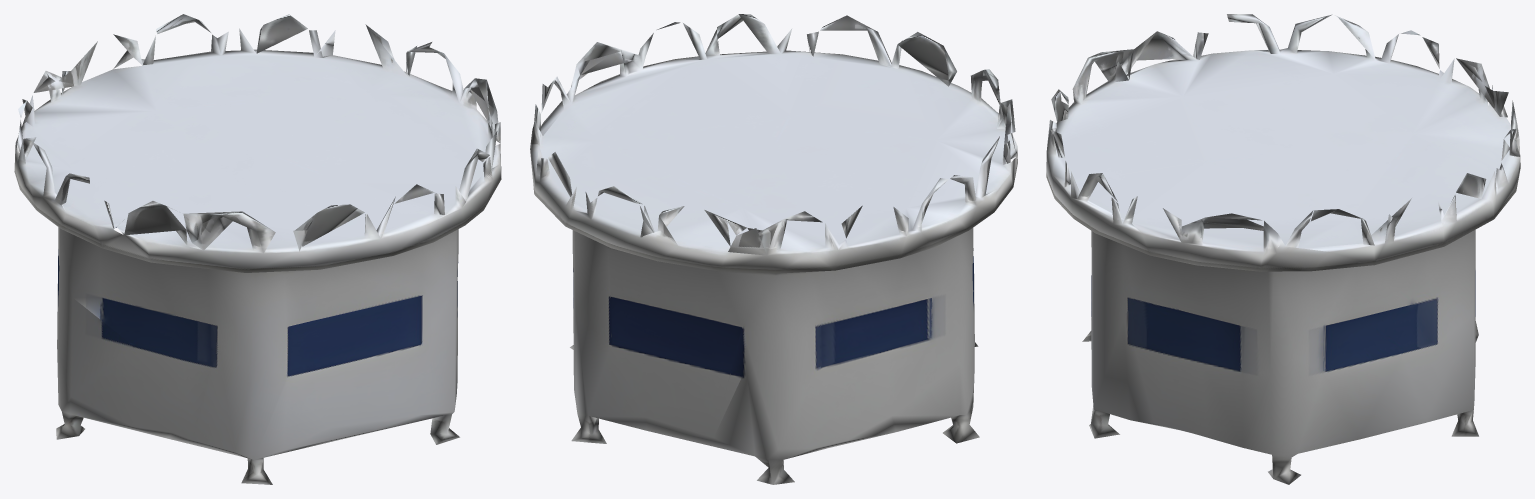
File: podium.glb
The picture shows the model from 3 angles, left to right: view 1: azimuth 30°, elevation 25°; view 2: azimuth 150°, elevation 25°; view 3: azimuth 270°, elevation 25°; orthographic projection.
Visible parts, largest first — view 1: tripo_node_98dac2b9-3cb0-4901-9020-eb73ce7809e3; view 2: tripo_node_98dac2b9-3cb0-4901-9020-eb73ce7809e3; view 3: tripo_node_98dac2b9-3cb0-4901-9020-eb73ce7809e3.
Part boxes in pixels (x1,y1,x2,y2): tripo_node_98dac2b9-3cb0-4901-9020-eb73ce7809e3: (14,14,501,484); tripo_node_98dac2b9-3cb0-4901-9020-eb73ce7809e3: (530,14,1017,484); tripo_node_98dac2b9-3cb0-4901-9020-eb73ce7809e3: (1046,14,1520,484).
Bounding box in the file's own units: 0.9996 × 0.652 × 1.
Materials: 1 (1 with a texture image).
